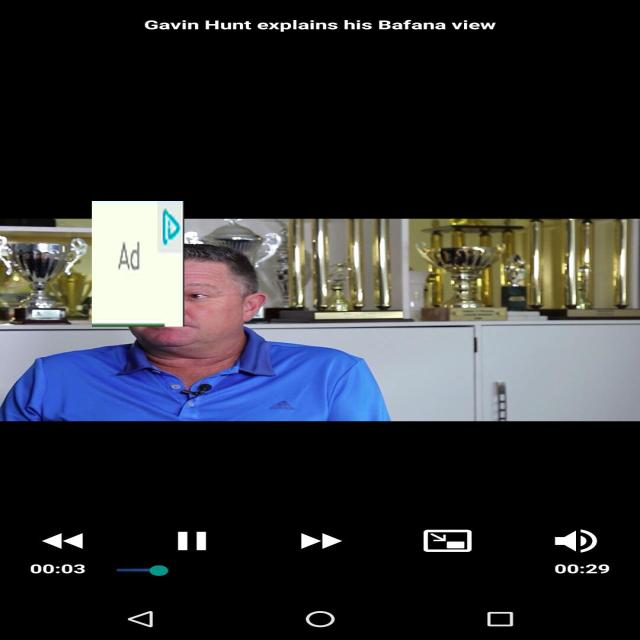sneaking: (92, 201, 184, 327)
